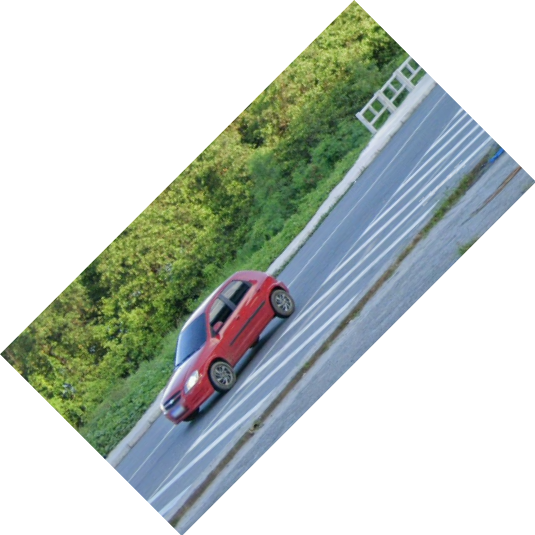car: (157, 267, 297, 426)
